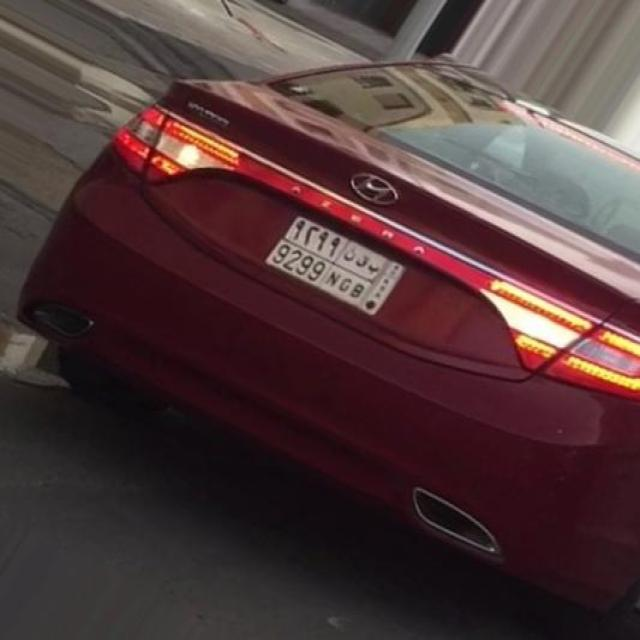Car-plate: (255, 202, 415, 333)
